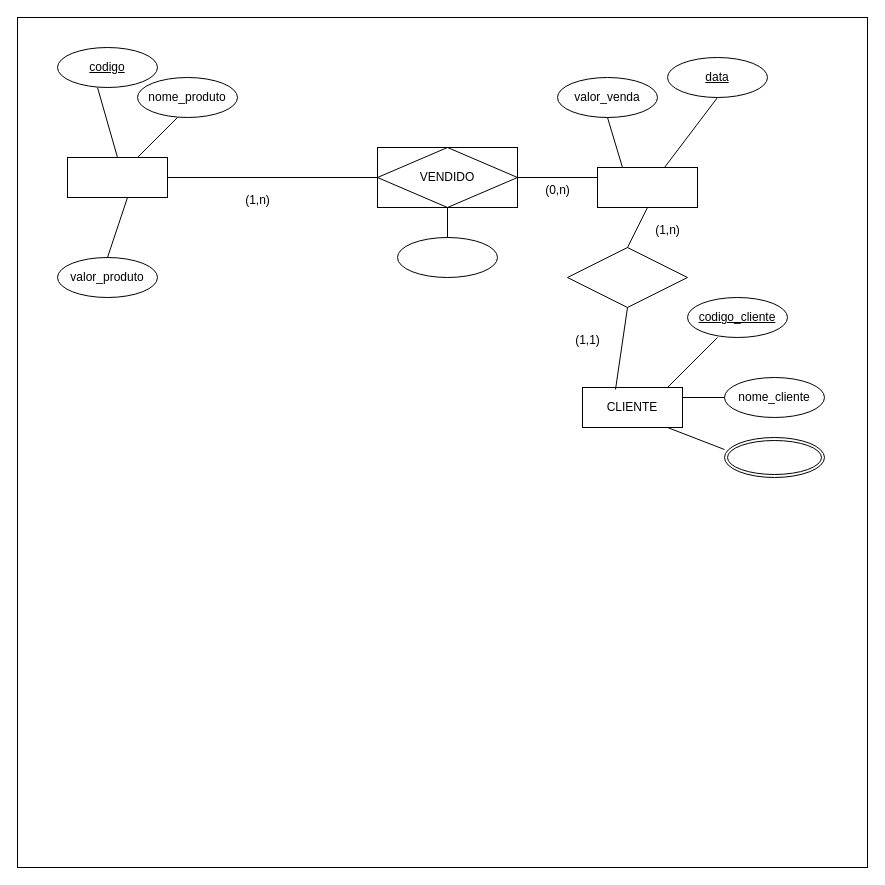
Some shapes in this 885 by 885 pixel diagram are drawn without their labels. The shapes that lost their labels are listed below. From the top down, each one's box as (x1, y1, x2, y2) in pixels, then its label:
(66, 156, 168, 198): PRODUTO
(596, 166, 698, 208): VENDA
(396, 236, 498, 278): quantidade_vendida
(566, 246, 688, 308): concluido
(724, 436, 824, 478): telefone
